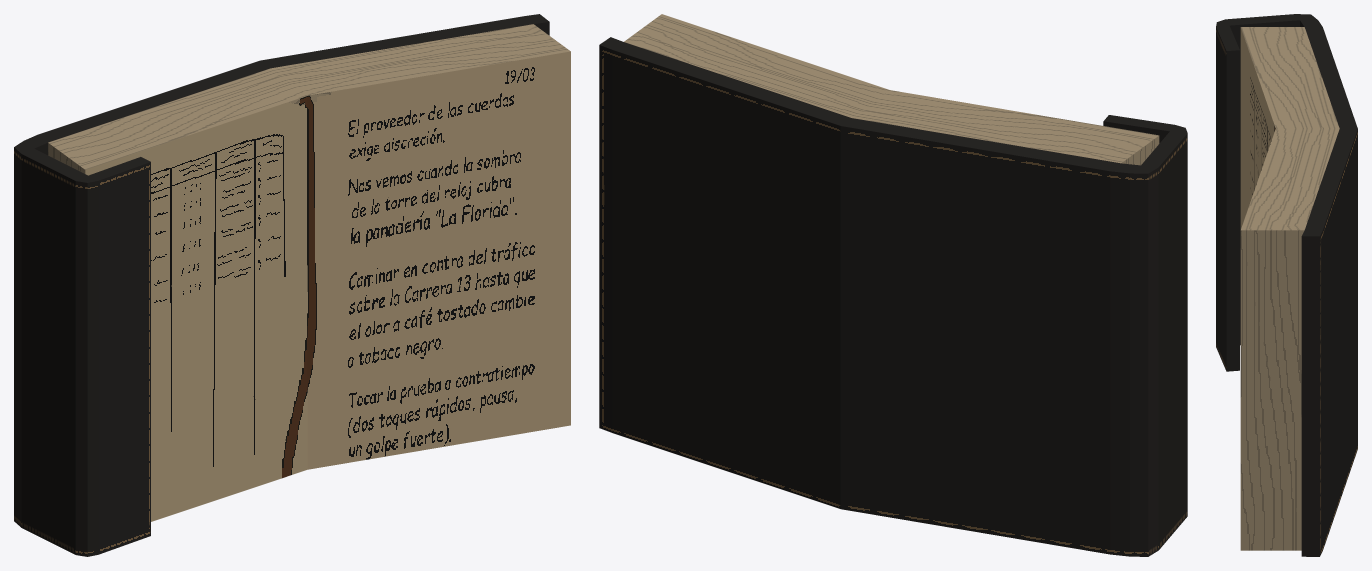
File: Libreta.glb
3 renders of one model, left to right at view 1: azimuth 30°, elevation 25°; view 2: azimuth 150°, elevation 25°; view 3: azimuth 270°, elevation 25°, orthographic. The views are drawn at different scales.
Parts seen in each view (by area): view 1: Libreta; view 2: Libreta; view 3: Libreta.
Boxes of the visible parts, left/top/right/bottom form: Libreta: left=14, top=14, right=570, bottom=556; Libreta: left=599, top=14, right=1187, bottom=556; Libreta: left=1216, top=14, right=1357, bottom=556.
Bounding box in the file's own units: 0.437 × 0.2936 × 0.1178.
Materials: 2 (2 with a texture image).
